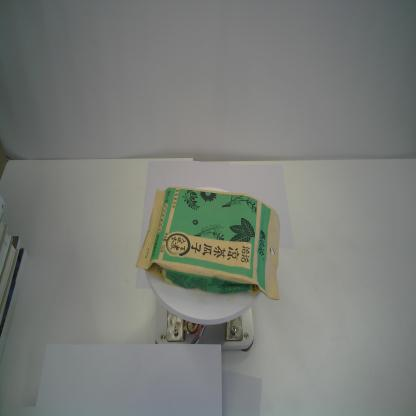Dried Food: (134, 186, 282, 301)
